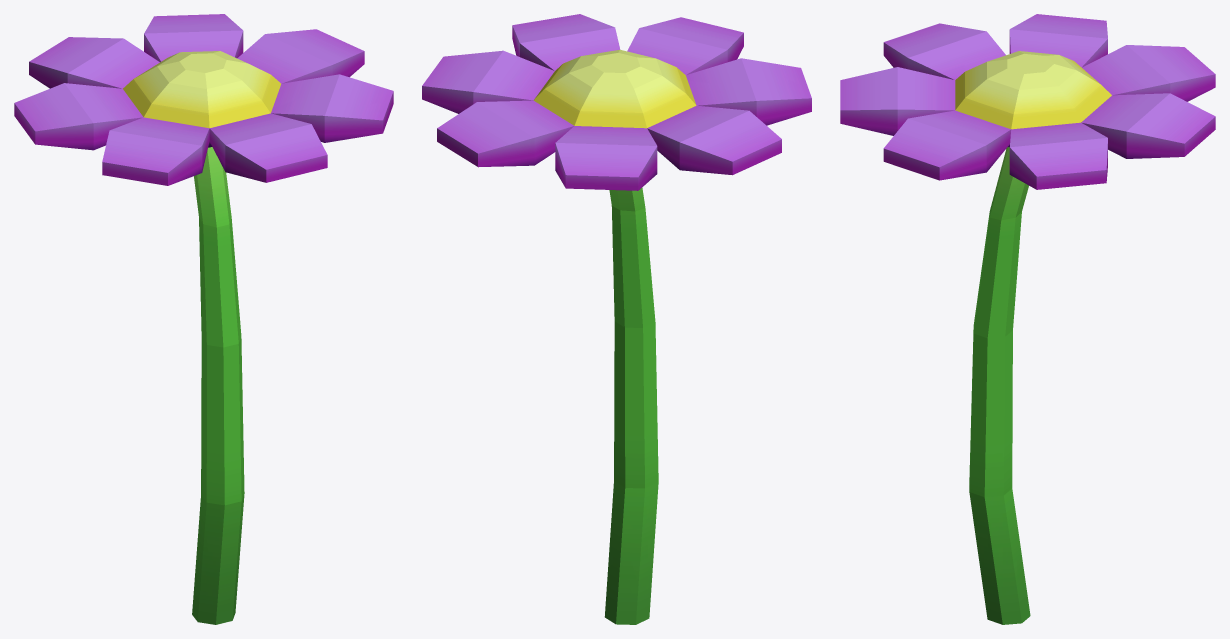
The model's file is Flower_Var4.glb.
The picture shows the model from 3 angles, left to right: view 1: azimuth 30°, elevation 25°; view 2: azimuth 150°, elevation 25°; view 3: azimuth 270°, elevation 25°; orthographic projection. The views are drawn at different scales.
Parts seen in each view (by area): view 1: Flower_Cylinder; view 2: Flower_Cylinder; view 3: Flower_Cylinder.
Part boxes in pixels (x1,y1,x2,y2): Flower_Cylinder: (14,14,393,624); Flower_Cylinder: (422,14,811,624); Flower_Cylinder: (840,14,1215,624).
Bounding box in the file's own units: 0.7184 × 1.14 × 0.7005.
Materials: 1 (1 with a texture image).
